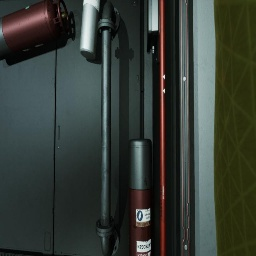0: (79, 0, 100, 60)
NitrogenTank ,: (0, 0, 70, 61), (128, 138, 153, 256)
